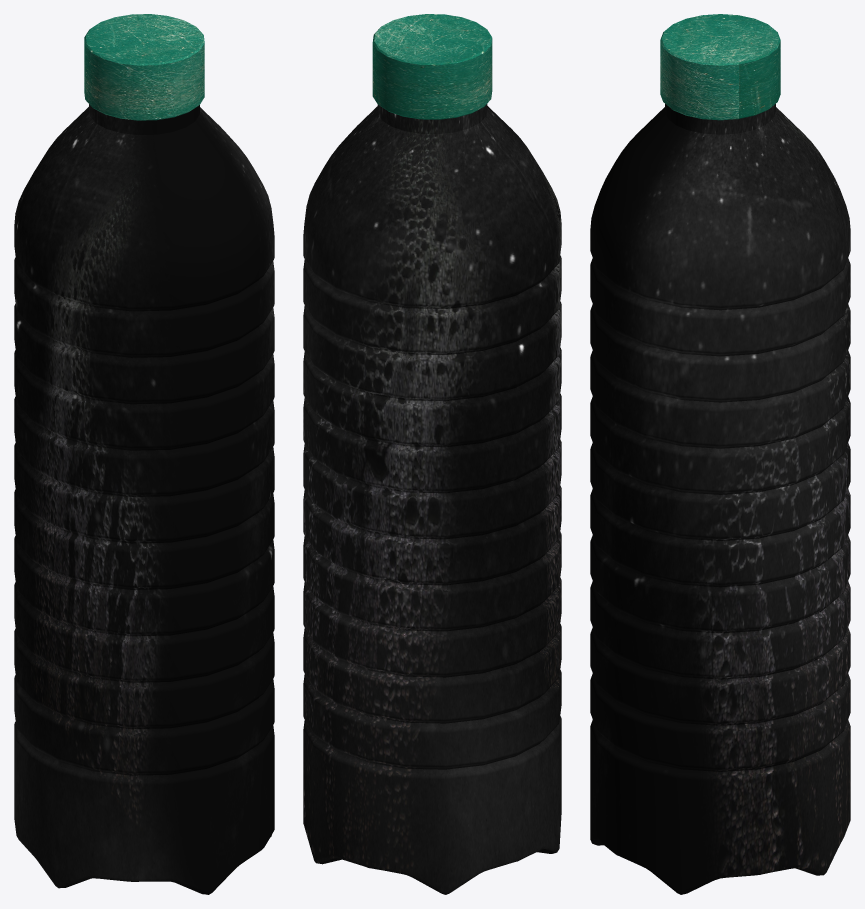
The model's file is Bottle.fbx.
3 renders of one model, left to right at view 1: azimuth 30°, elevation 25°; view 2: azimuth 150°, elevation 25°; view 3: azimuth 270°, elevation 25°, orthographic.
Parts seen in each view (by area): view 1: pCylinder8, pCylinder9; view 2: pCylinder8, pCylinder9; view 3: pCylinder8, pCylinder9.
Boxes of the visible parts, <box> form: pCylinder8: <box>14,104,274,894</box>; pCylinder9: <box>84,14,204,120</box>; pCylinder8: <box>303,104,561,894</box>; pCylinder9: <box>372,14,492,119</box>; pCylinder8: <box>590,104,850,894</box>; pCylinder9: <box>660,14,780,120</box>.
Bounding box in the file's own units: 0.6186 × 2.11 × 0.6186.
